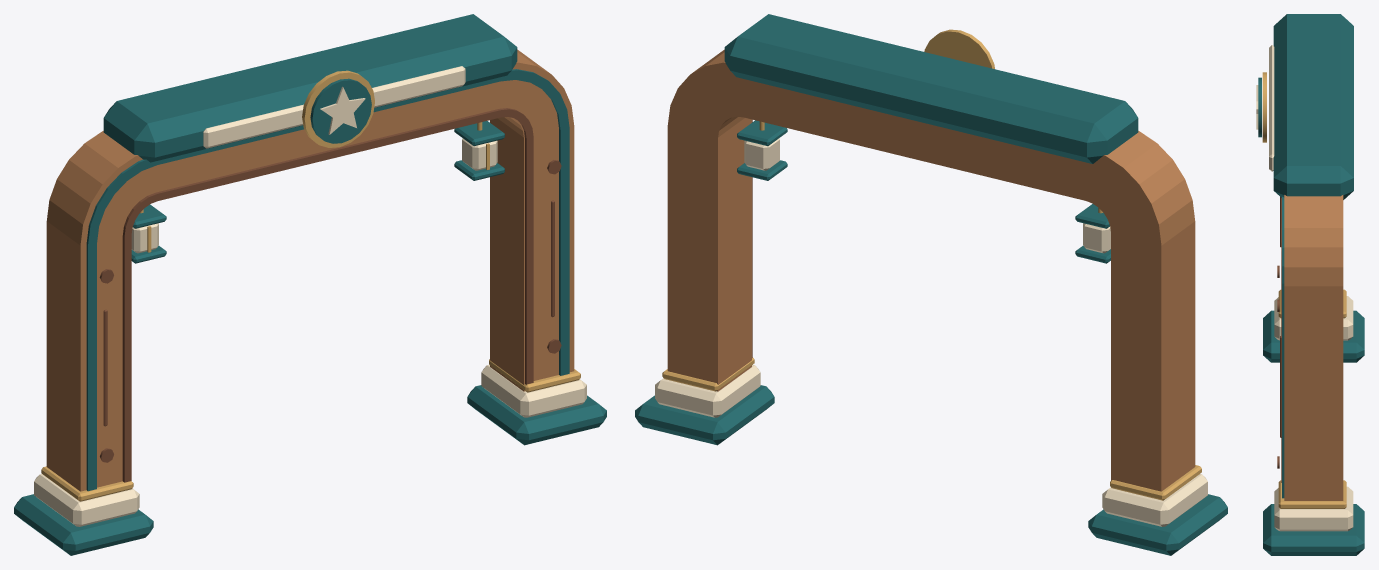
The model's file is willkommenstor.glb.
3 renders of one model, left to right at view 1: azimuth 30°, elevation 25°; view 2: azimuth 150°, elevation 25°; view 3: azimuth 270°, elevation 25°, orthographic. The views are drawn at different scales.
Visible parts, largest first — view 1: willkommenstor_holz, willkommenstor_petrol, willkommenstor_creme, willkommenstor_stirnholz, willkommenstor_messing; view 2: willkommenstor_holz, willkommenstor_petrol, willkommenstor_creme, willkommenstor_messing; view 3: willkommenstor_petrol, willkommenstor_holz, willkommenstor_creme, willkommenstor_messing, willkommenstor_stirnholz.
Part boxes in pixels (left/top/right/bottom): willkommenstor_holz: left=46, top=49, right=574, bottom=491; willkommenstor_petrol: left=14, top=14, right=606, bottom=555; willkommenstor_creme: left=34, top=66, right=586, bottom=526; willkommenstor_stirnholz: left=99, top=108, right=561, bottom=482; willkommenstor_messing: left=41, top=70, right=580, bottom=501; willkommenstor_holz: left=667, top=49, right=1195, bottom=491; willkommenstor_petrol: left=635, top=14, right=1227, bottom=555; willkommenstor_creme: left=655, top=138, right=1207, bottom=526; willkommenstor_messing: left=662, top=29, right=1201, bottom=500; willkommenstor_petrol: left=1258, top=14, right=1364, bottom=555; willkommenstor_holz: left=1284, top=195, right=1343, bottom=500; willkommenstor_creme: left=1256, top=45, right=1353, bottom=531; willkommenstor_messing: left=1262, top=72, right=1346, bottom=508; willkommenstor_stirnholz: left=1277, top=197, right=1281, bottom=482.
Bounding box in the file's own units: 5.4 × 4 × 1.07.
